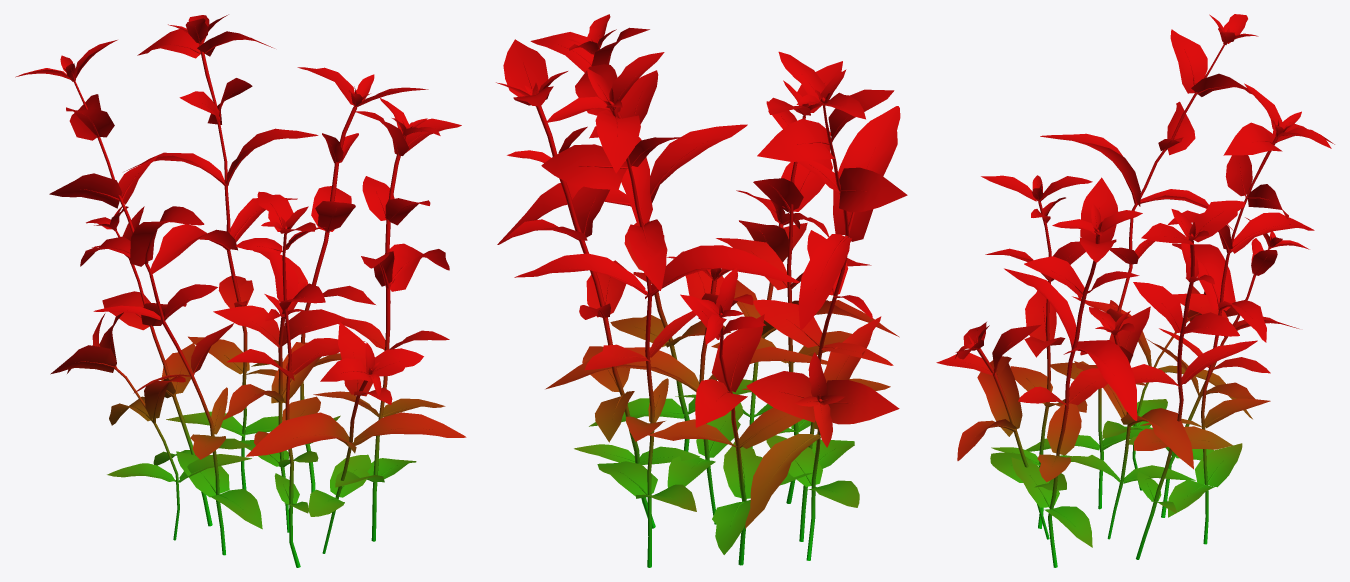
The model's file is Var3_LOD1.fbx.
3 renders of one model, left to right at view 1: azimuth 30°, elevation 25°; view 2: azimuth 150°, elevation 25°; view 3: azimuth 270°, elevation 25°, orthographic. The views are drawn at different scales.
Parts seen in each view (by area): view 1: _srxn_Var3_LOD1; view 2: _srxn_Var3_LOD1; view 3: _srxn_Var3_LOD1.
Boxes of the visible parts, x1,y1,x2,y2 form: _srxn_Var3_LOD1: (15, 14, 466, 567); _srxn_Var3_LOD1: (496, 14, 907, 567); _srxn_Var3_LOD1: (936, 14, 1334, 567).
Bounding box in the file's own units: 37.77 × 45.9 × 36.38.
